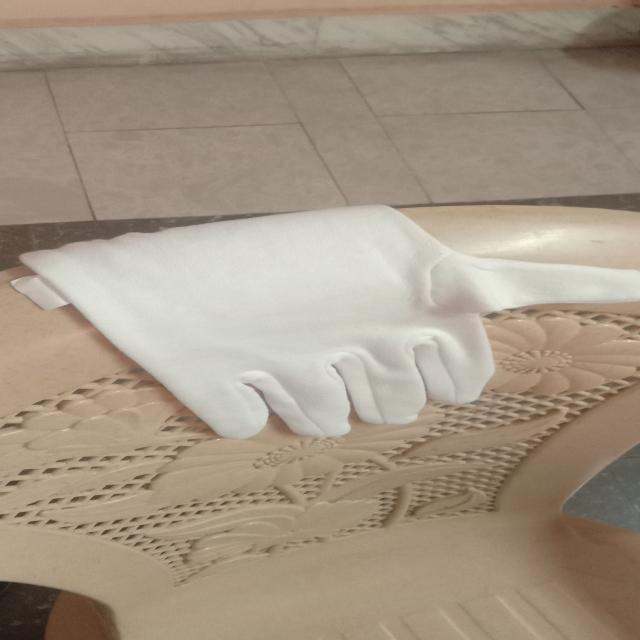glove: (11, 181, 640, 435)
